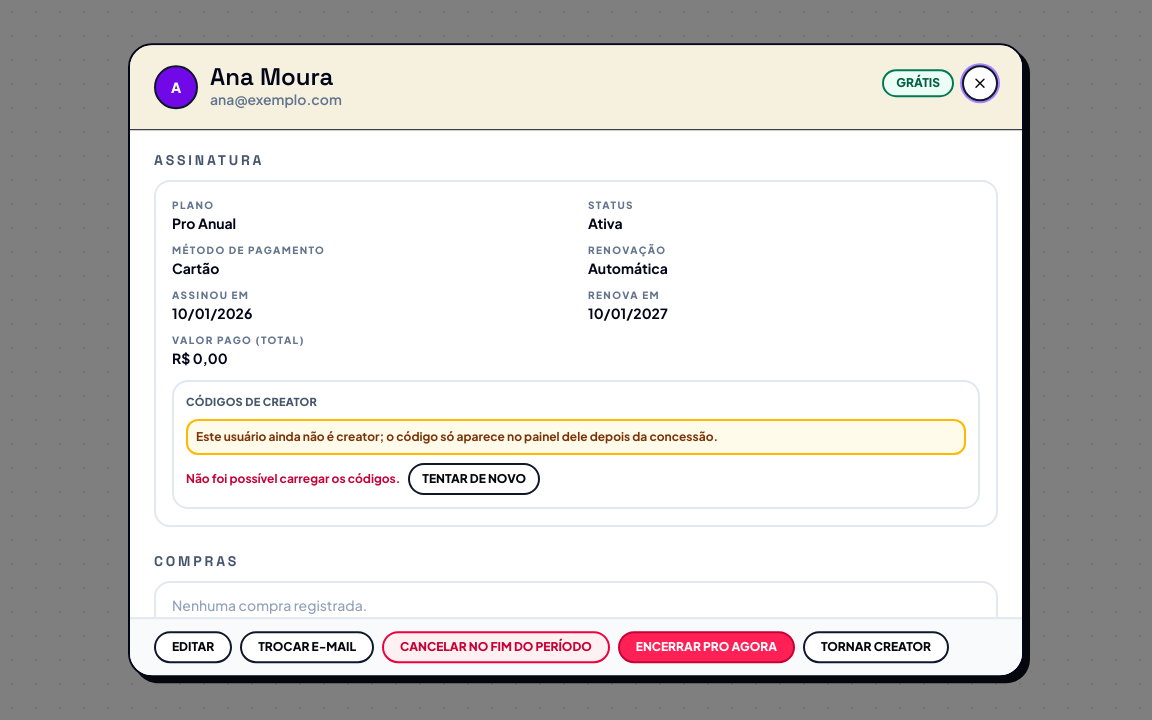
Test: cancelamento de assinatura (Fatia 6) › o diálogo mostra plano, valor e a data até quando o acesso vale
Click the button "Cancelar no fim do período": point(496, 647) [382,631,610,663]
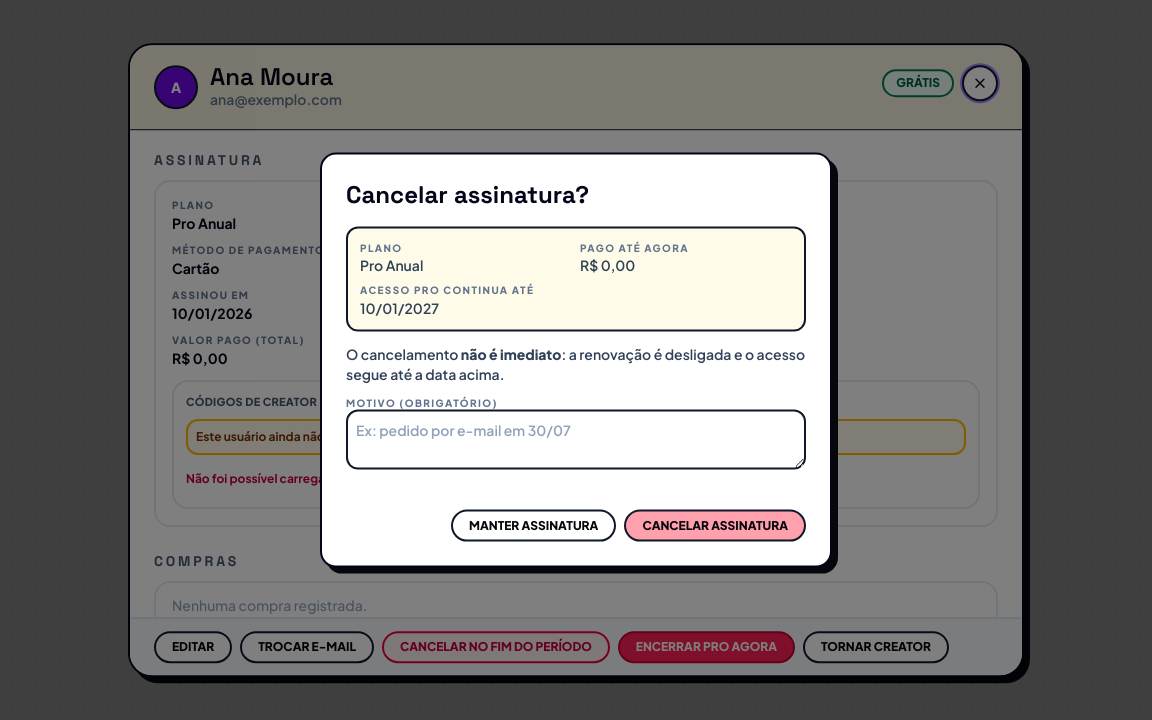
Expected: the text "Pro Anual" is shown, [360,256,423,274]
Expected: the text "10/01/2027" is shown, [360,298,439,316]
Expected: the text "não é imediato" is shown, [461,344,561,362]
